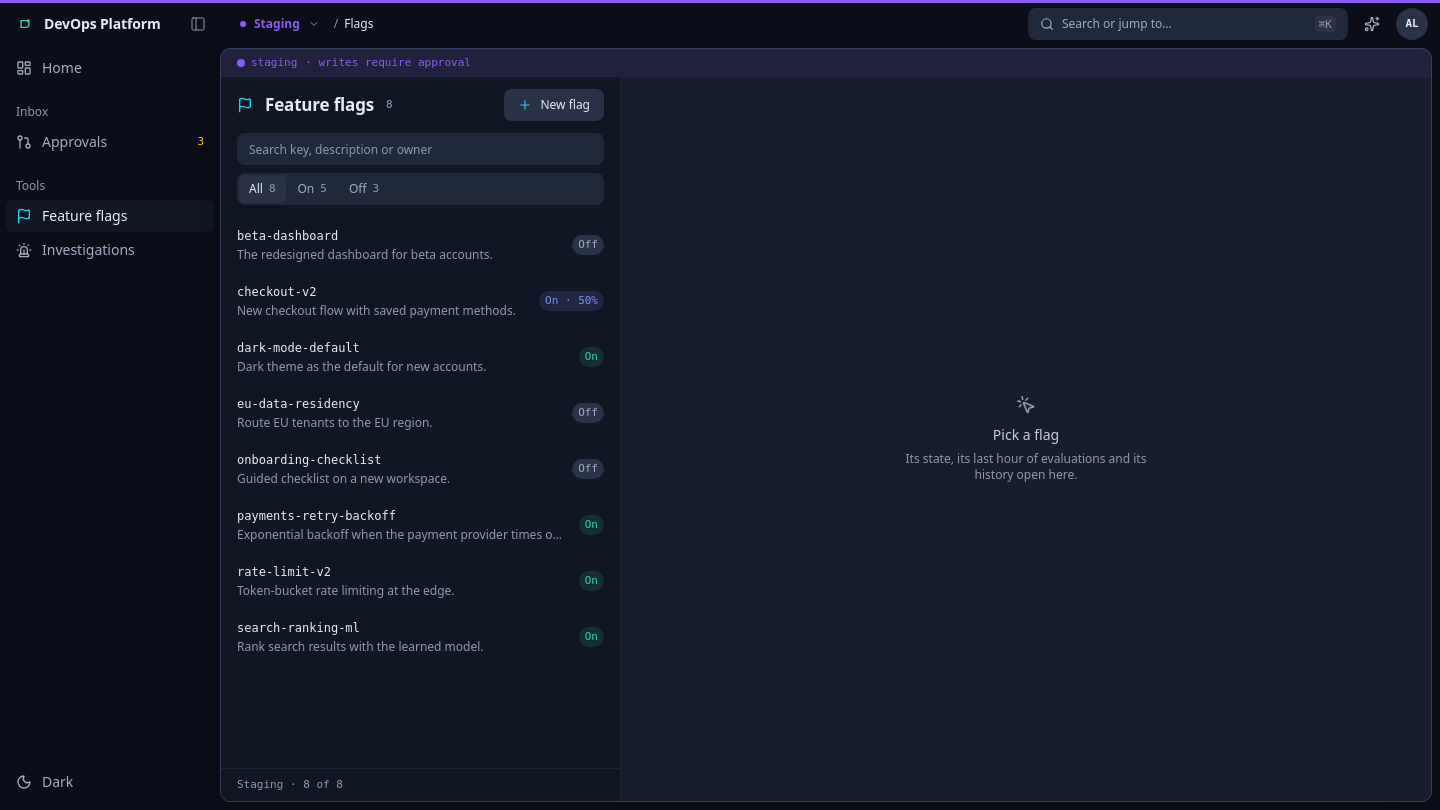
Scenario: the flags list › opens a flag in the detail column
expect the list named "Flags" is shown: met, box x1=221 y1=217 x2=620 y2=665
Click the text "checkout-v2" at (277, 292), box x1=237 y1=283 x2=316 y2=301
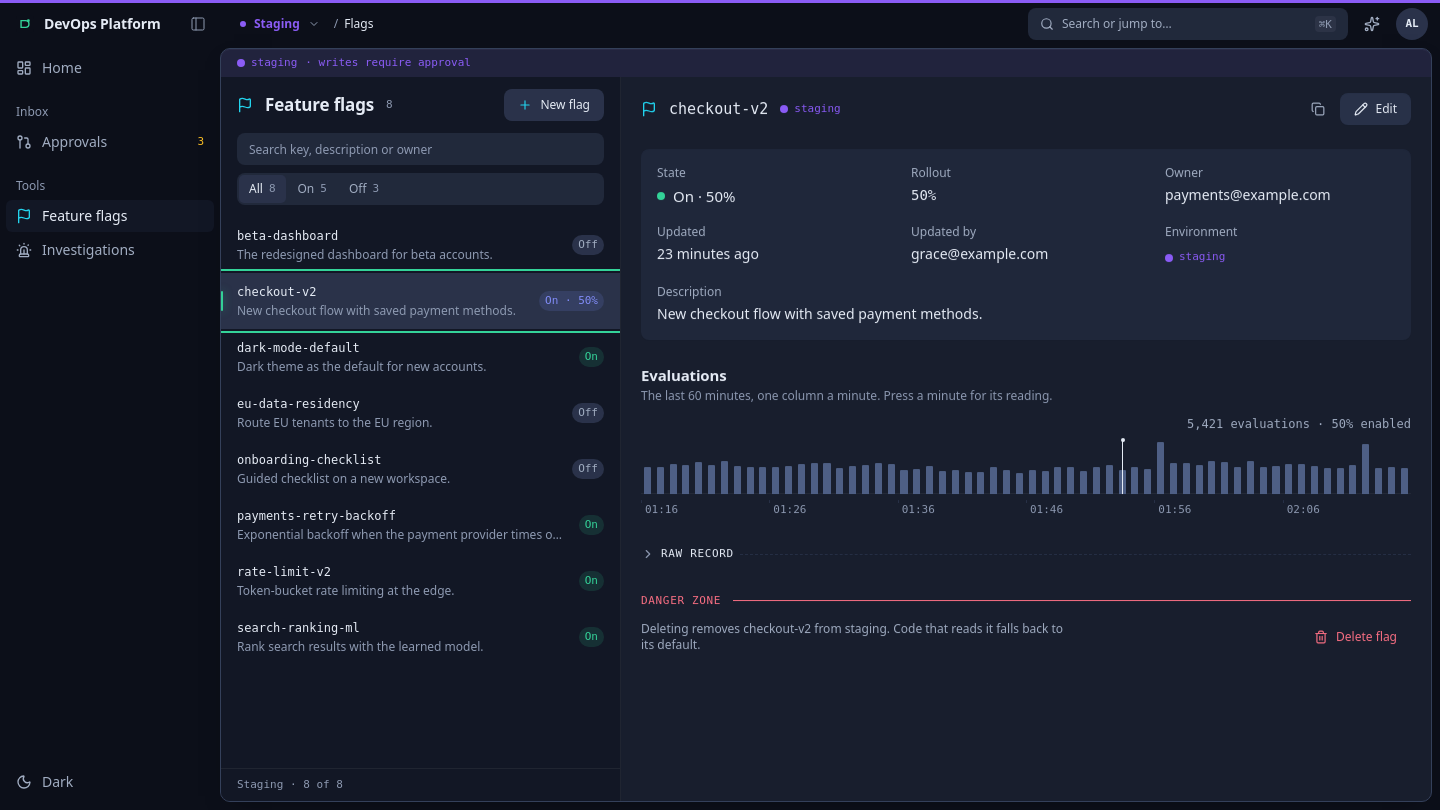
expect the heading "checkout-v2" is shown: met, box x1=669 y1=98 x2=768 y2=120
expect the element named "Evaluations of checkout-v2 in staging" is shown: met, box x1=641 y1=438 x2=1411 y2=494
